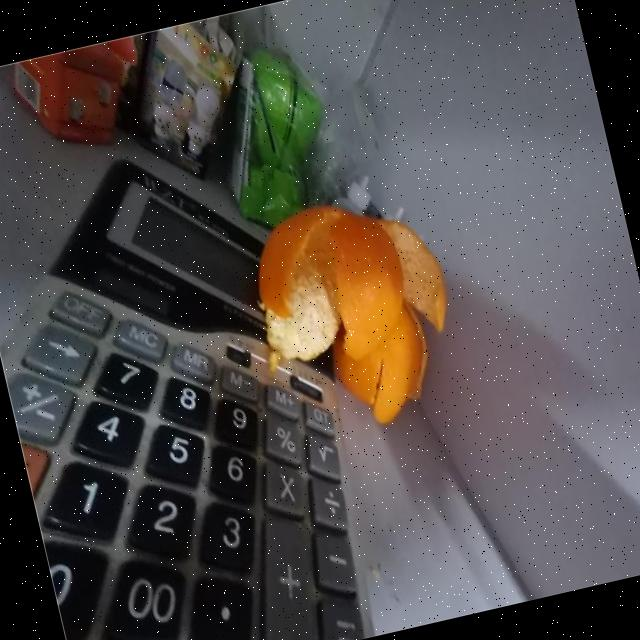orange-peel: (237, 178, 472, 446)
